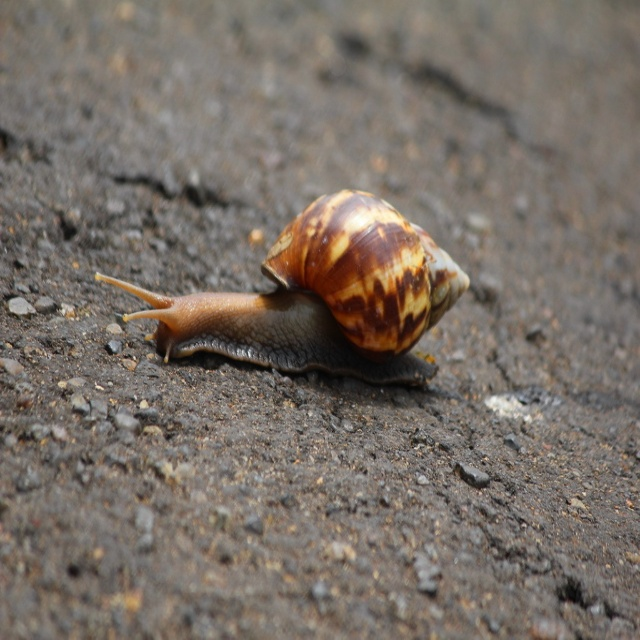Snail: (94, 183, 470, 391)
